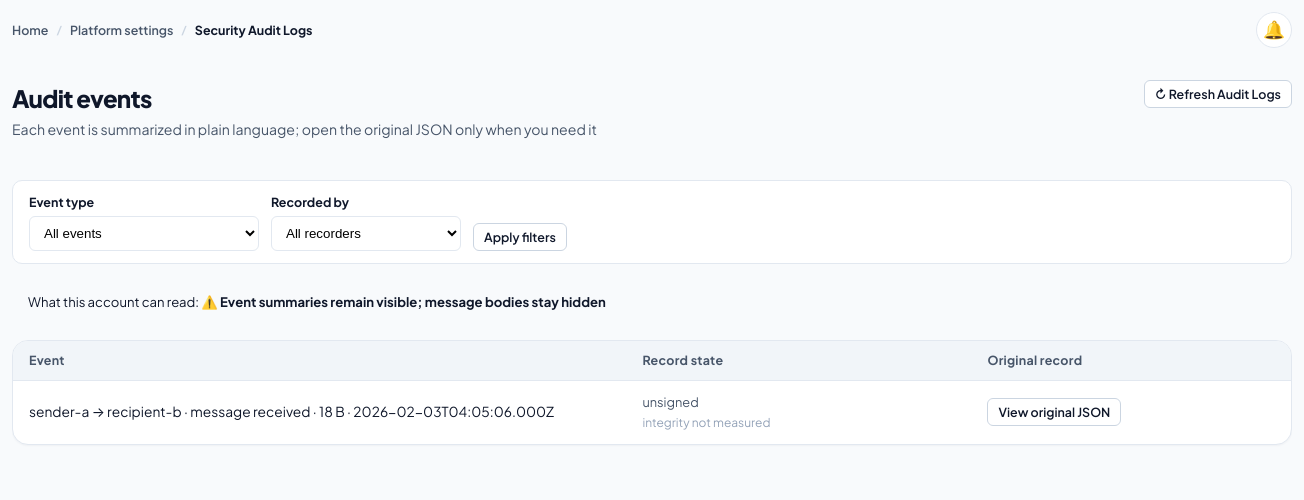
SPEC § 11.0's content boundary › maps the server's redaction token to operator language even for a content reader
The width and height of the screenshot is (1304, 500).
Click the button "View original JSON". click: {"x": 1054, "y": 412}
box: [988,398,1121,426]
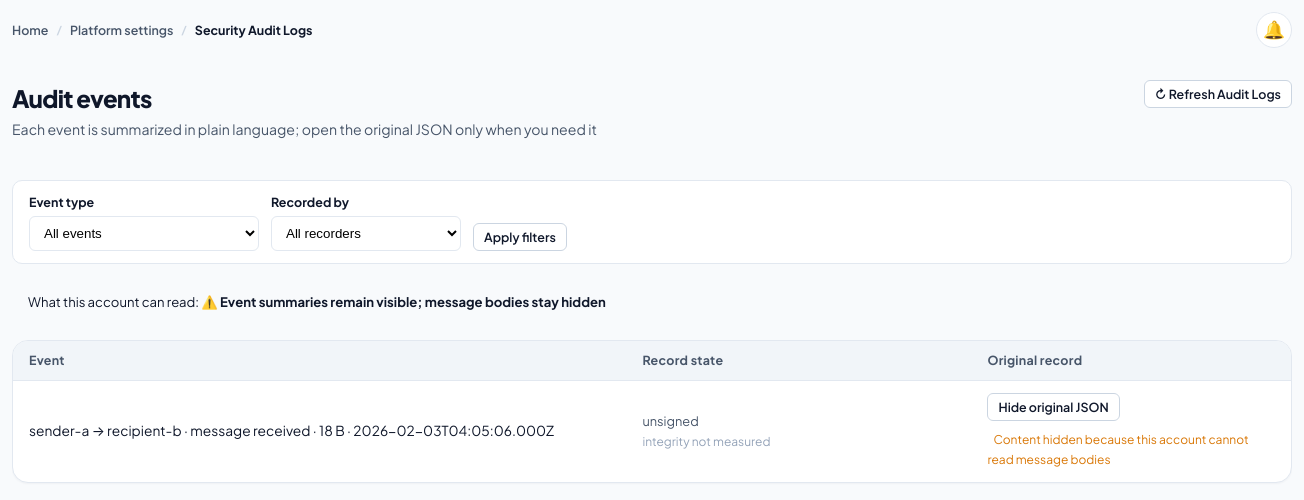
Expected: the text with test id "audit-withheld" reads "Content hidden because this account cannot read message bodies", [988,432,1249,467]
